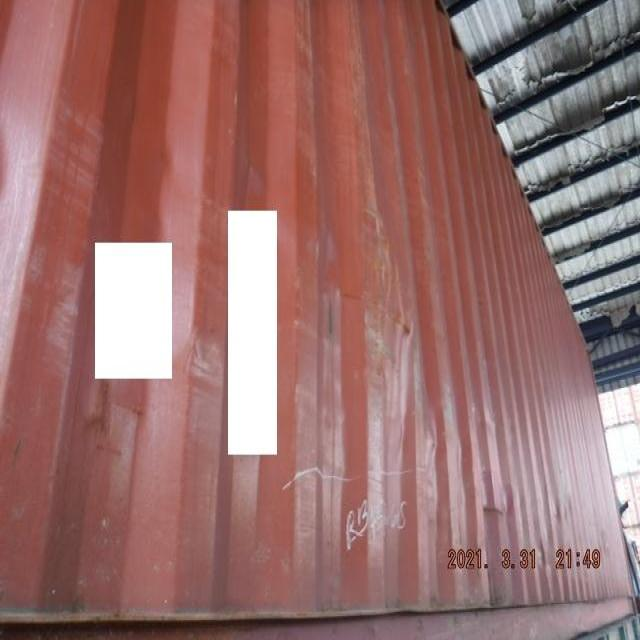dent: (309, 189, 456, 466)
